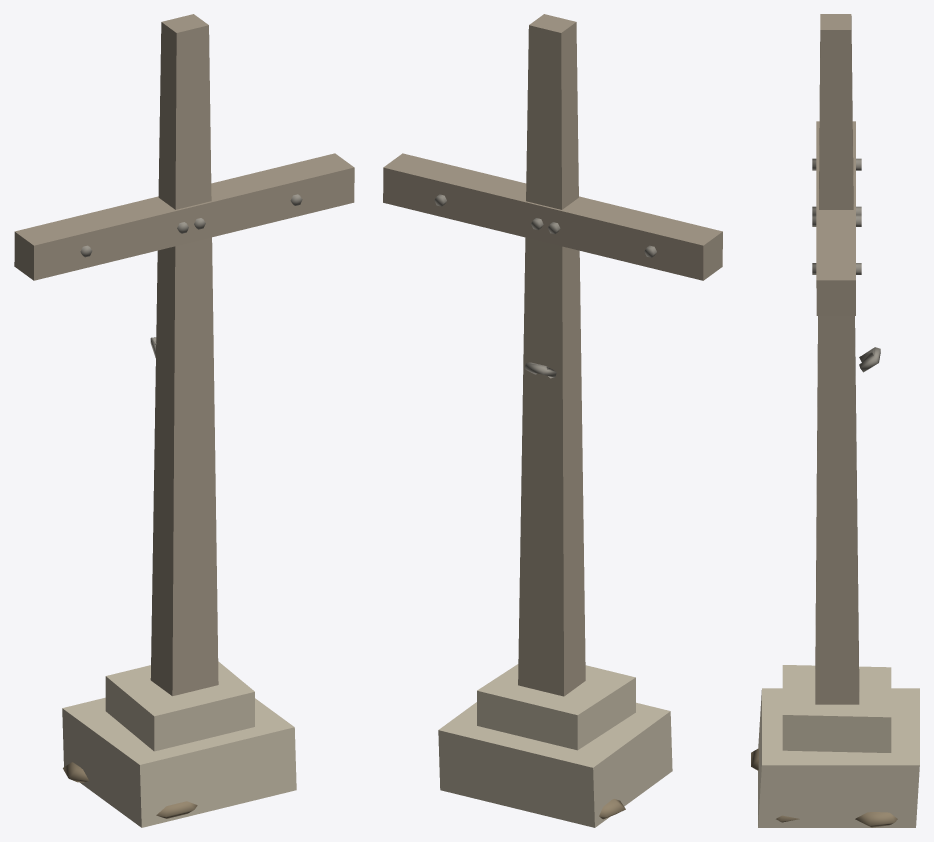
The model's file is wayside_cross.glb.
3 renders of one model, left to right at view 1: azimuth 30°, elevation 25°; view 2: azimuth 150°, elevation 25°; view 3: azimuth 270°, elevation 25°, orthographic.
Visible parts, largest first — view 1: Cross_Wood, Cross_Footing; view 2: Cross_Wood, Cross_Footing; view 3: Cross_Wood, Cross_Footing.
Part boxes in pixels (box(x1,y1,x2,y2)): Cross_Wood: box(14, 14, 354, 696); Cross_Footing: box(62, 661, 296, 827); Cross_Wood: box(383, 14, 722, 696); Cross_Footing: box(438, 664, 672, 827); Cross_Wood: box(812, 14, 880, 704); Cross_Footing: box(751, 665, 919, 827).
Bounding box in the file's own units: 0.7628 × 1.72 × 0.3419.
